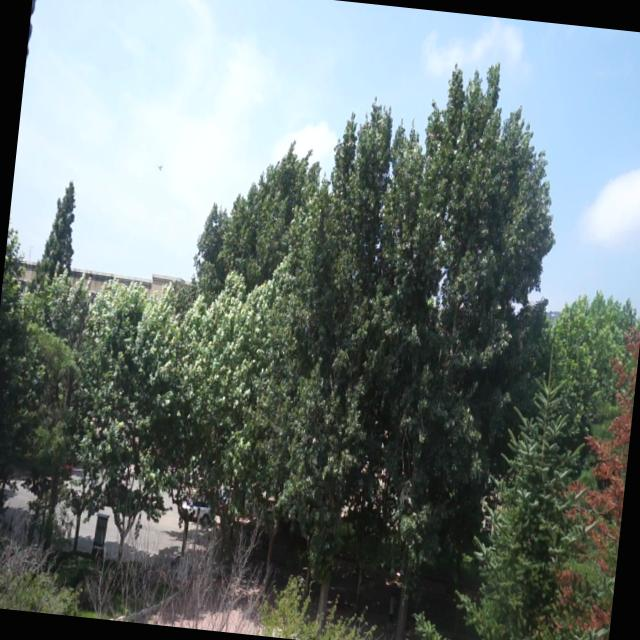drone: (152, 156, 168, 180)
